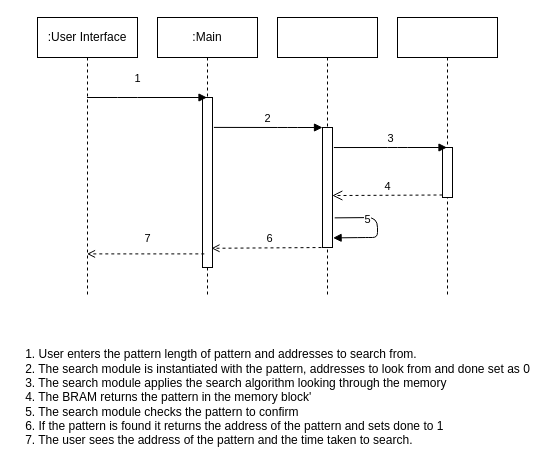
Image size: 554x465. Some labels were removed from this diagram. The centre of each missing label's shape, as x and y in pixels:
":Memory (BRAM)" goes at [447,157].
":Search Module" goes at [327,157].
